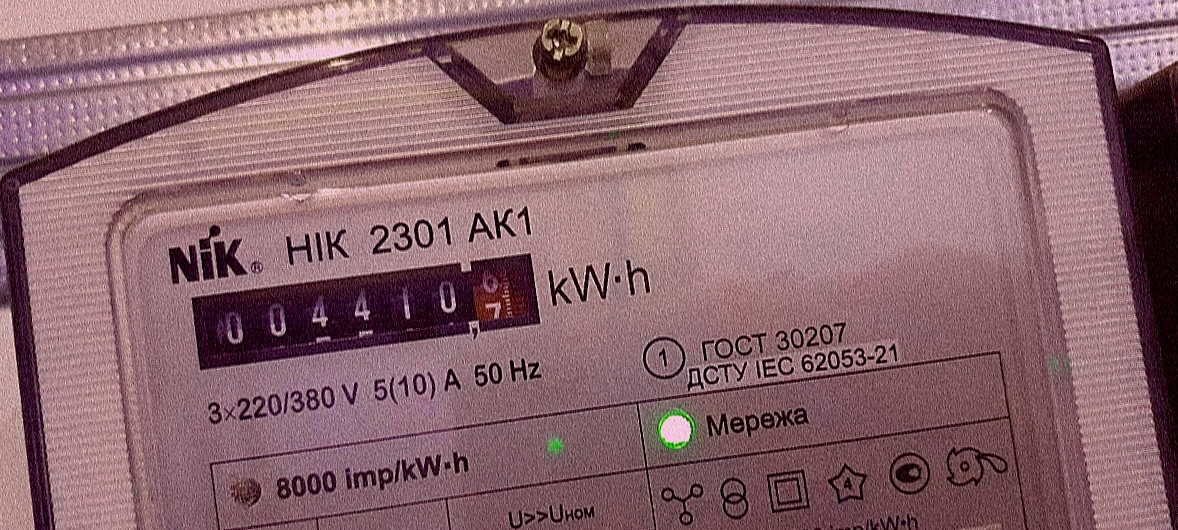0: (221, 306, 247, 347), (436, 277, 460, 315), (266, 299, 288, 339)
1: (396, 283, 415, 322)
4: (348, 284, 375, 326), (306, 289, 332, 330)
6: (481, 266, 502, 294)
7: (483, 299, 505, 321)
screen: (178, 236, 555, 385)
